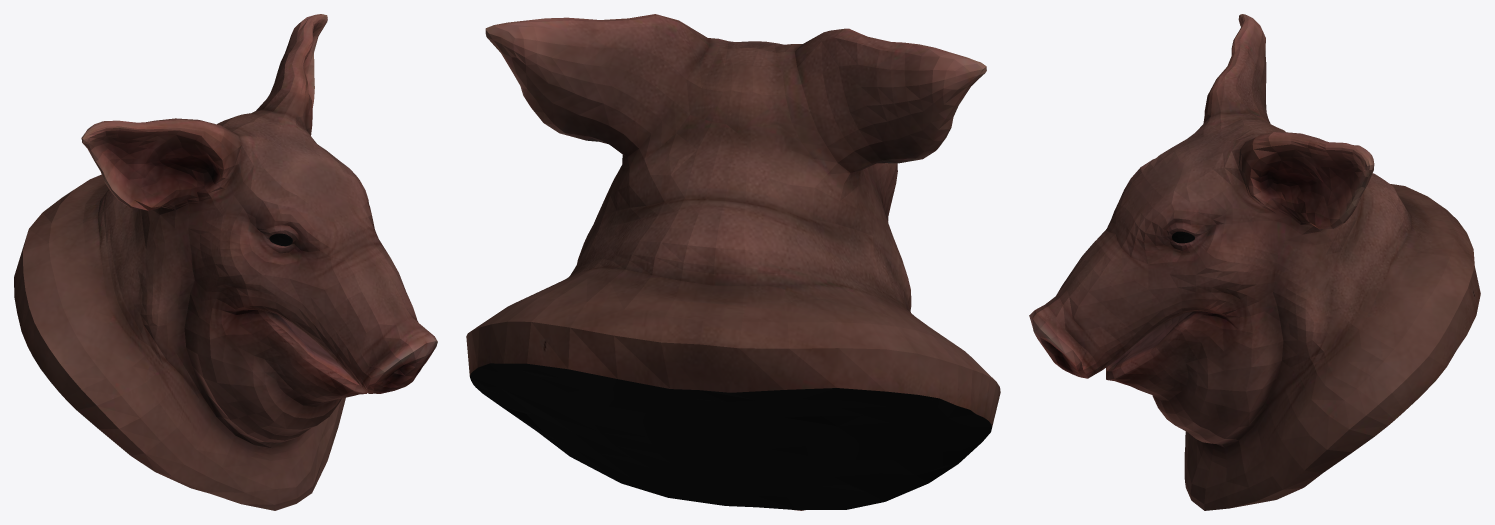
Rendered from pighead.gltf.
The picture shows the model from 3 angles, left to right: view 1: azimuth 30°, elevation 25°; view 2: azimuth 150°, elevation 25°; view 3: azimuth 270°, elevation 25°; orthographic projection. The views are drawn at different scales.
Parts seen in each view (by area): view 1: pighead; view 2: pighead; view 3: pighead.
Boxes of the visible parts, x1,y1,x2,y2 form: pighead: (14,14,437,510); pighead: (466,14,1000,510); pighead: (1029,14,1480,510).
Bounding box in the file's own units: 1.47 × 1.65 × 1.69.
Materials: 1 (1 with a texture image).
